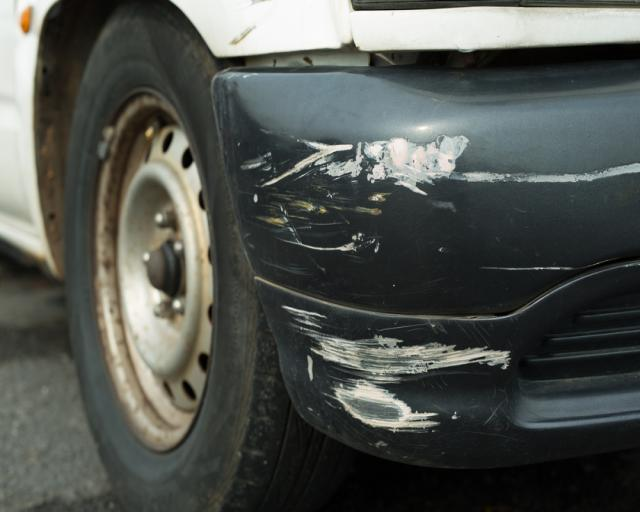scratch: (231, 128, 640, 252), (277, 294, 516, 441)
